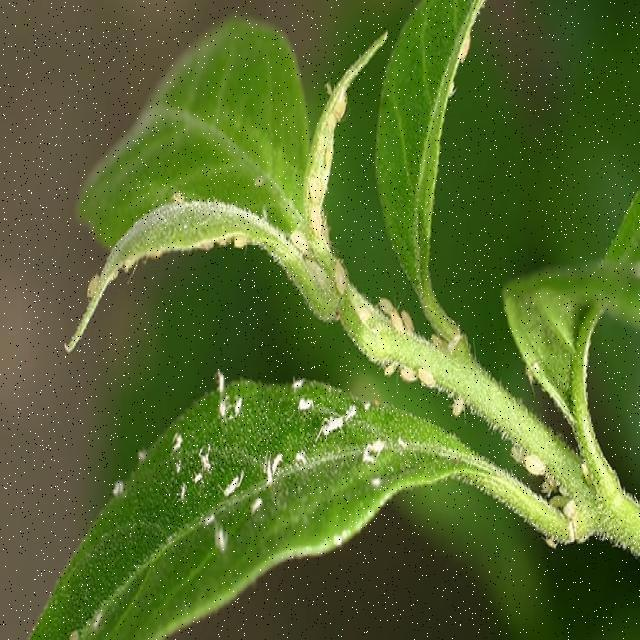Aphids: (258, 447, 287, 492), (330, 247, 352, 301), (417, 359, 440, 399)
